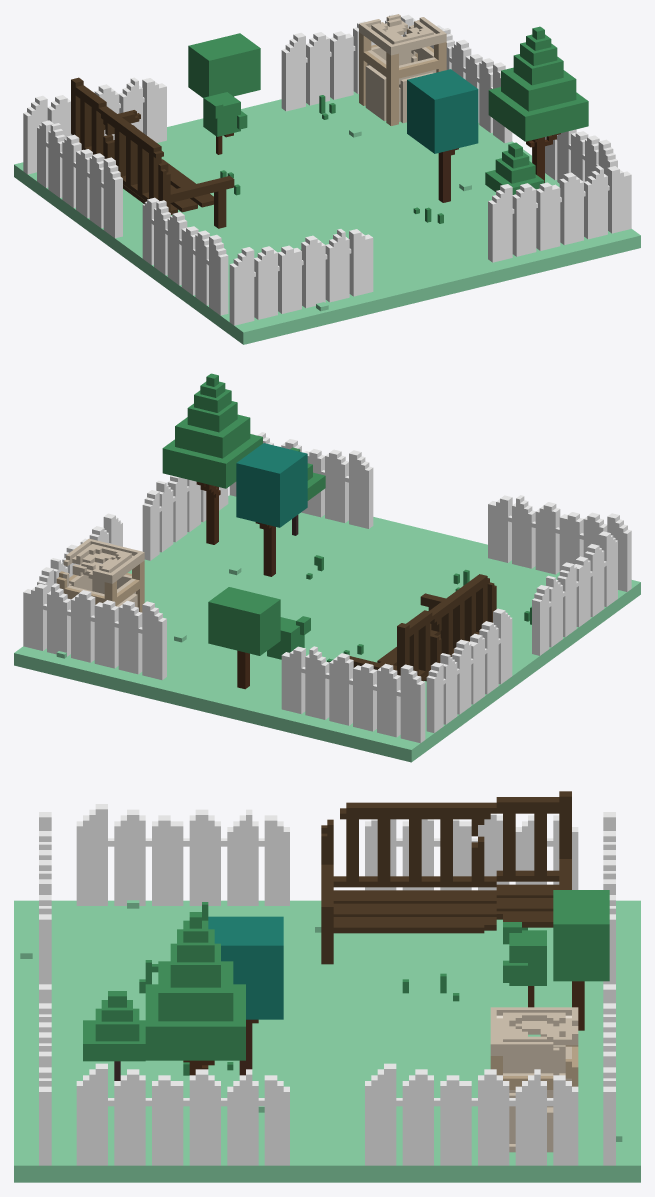
The model's file is Background_A_park.FBX.
The picture shows the model from 3 angles, top to bottom: view 1: azimuth 30°, elevation 25°; view 2: azimuth 150°, elevation 25°; view 3: azimuth 270°, elevation 25°; orthographic projection. The views are drawn at different scales.
Parts seen in each view (by area): view 1: zx-1; view 2: zx-1; view 3: zx-1.
Part boxes in pixels (x1=…): zx-1: x1=14, y1=14, x2=640, y2=344; zx-1: x1=14, y1=373, x2=640, y2=762; zx-1: x1=14, y1=791, x2=640, y2=1182.
Size of the model in its own units: 10 by 4.3 by 10.
Materials: 1 (1 with a texture image).
